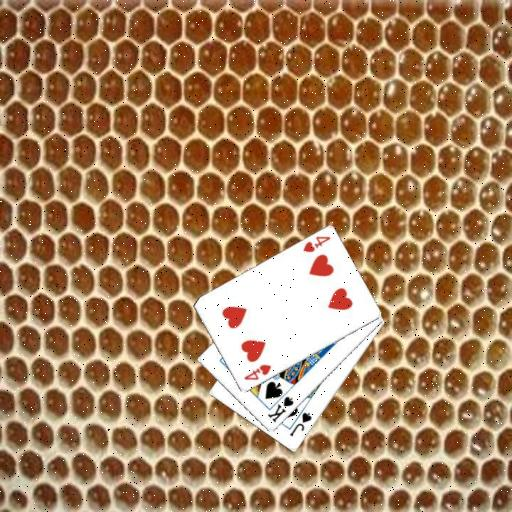4H: (300, 233, 332, 255), (241, 362, 273, 382)
JS: (287, 409, 314, 438)
KS: (265, 394, 295, 424)
